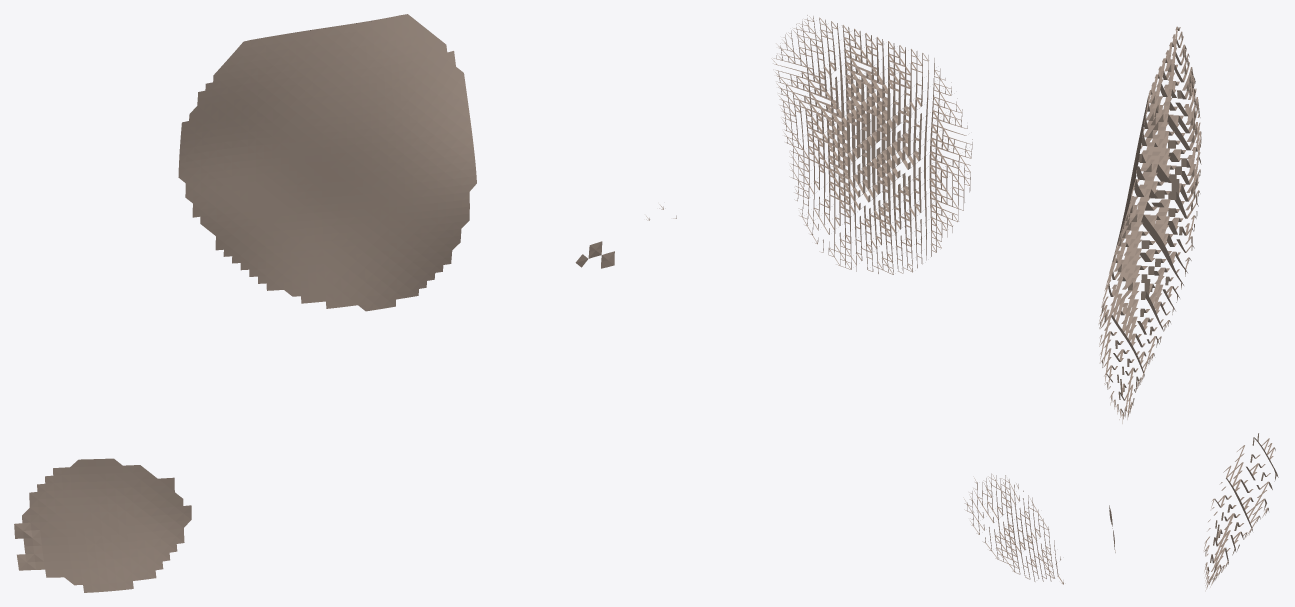
The picture shows the model from 3 angles, left to right: view 1: azimuth 30°, elevation 25°; view 2: azimuth 150°, elevation 25°; view 3: azimuth 270°, elevation 25°; orthographic projection. The views are drawn at different scales.
Parts seen in each view (by area): view 1: world; view 2: world; view 3: world.
Boxes of the visible parts, x1,y1,x2,y2 form: world: (14,14,614,592); world: (646,15,1063,584); world: (1098,26,1278,591).
Bounding box in the file's own units: 7700 × 7400 × 1940.
